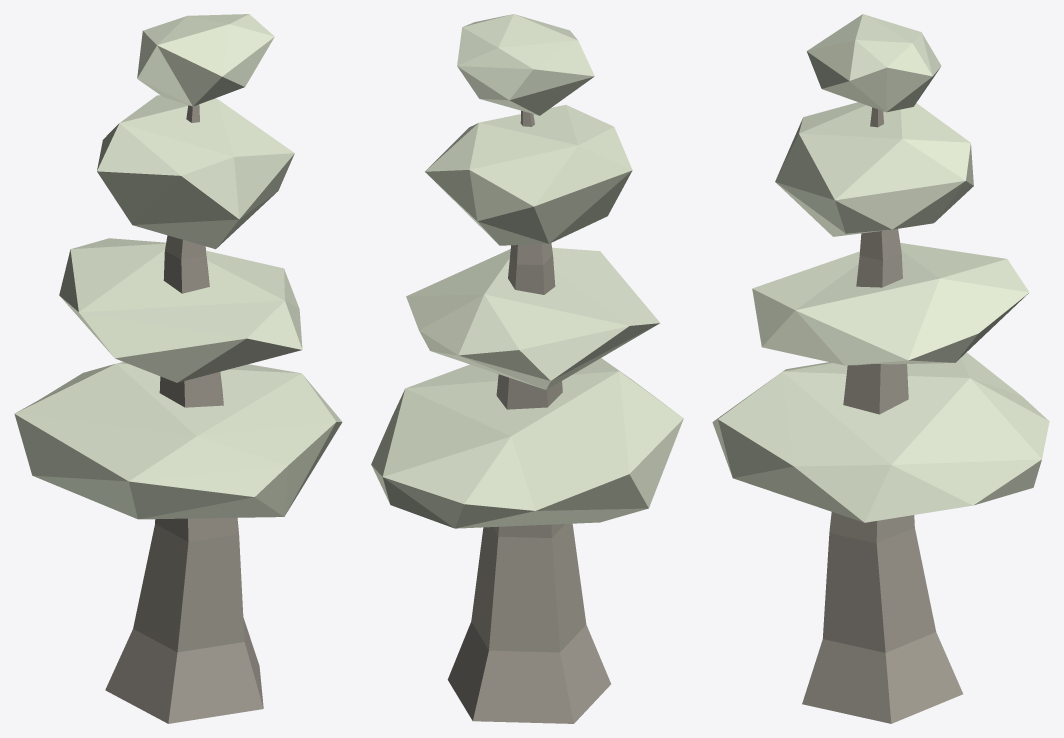
The model's file is Low_Poly_Tree_002Light1.fbx.
3 renders of one model, left to right at view 1: azimuth 30°, elevation 25°; view 2: azimuth 150°, elevation 25°; view 3: azimuth 270°, elevation 25°, orthographic.
Visible parts, largest first — view 1: Low_Poly_Tree_002; view 2: Low_Poly_Tree_002; view 3: Low_Poly_Tree_002.
Boxes of the visible parts, <box> form: Low_Poly_Tree_002: <box>14,14,342,723</box>; Low_Poly_Tree_002: <box>371,14,683,723</box>; Low_Poly_Tree_002: <box>712,14,1049,723</box>.
Size of the model in its own units: 489 by 1096 by 507.
